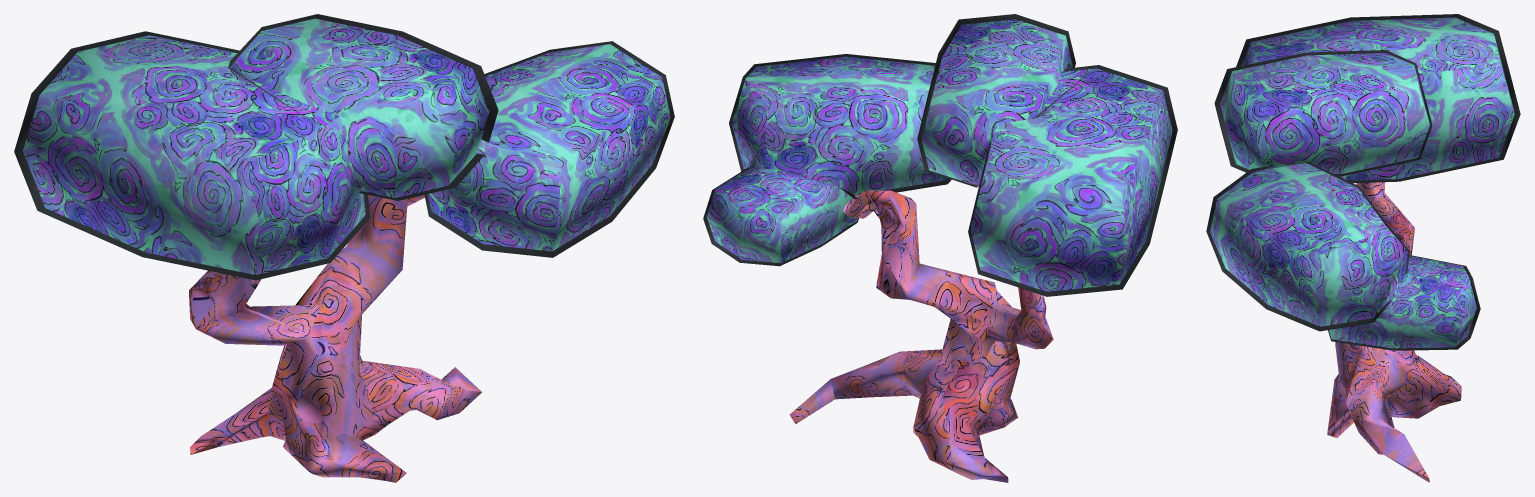
Rendered from tree-01.glb.
3 views of the same model, side by side, from view 1: azimuth 30°, elevation 25°; view 2: azimuth 150°, elevation 25°; view 3: azimuth 270°, elevation 25° (orthographic). The views are drawn at different scales.
Visible parts, largest first — view 1: Tree_01_Art; view 2: Tree_01_Art; view 3: Tree_01_Art.
Boxes of the visible parts, x1,y1,x2,y2 form: Tree_01_Art: (14,14,674,482); Tree_01_Art: (703,14,1177,482); Tree_01_Art: (1206,14,1520,482).
Size of the model in its own units: 15.93 by 12.1 by 9.75.
3 materials, 2 textured.
